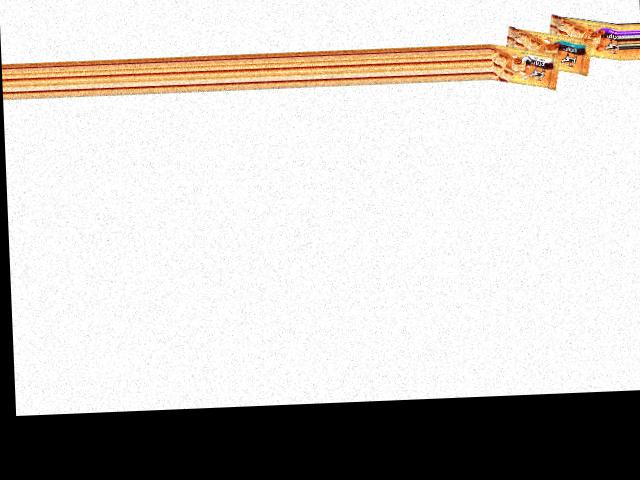chocolate: (542, 15, 620, 64)
